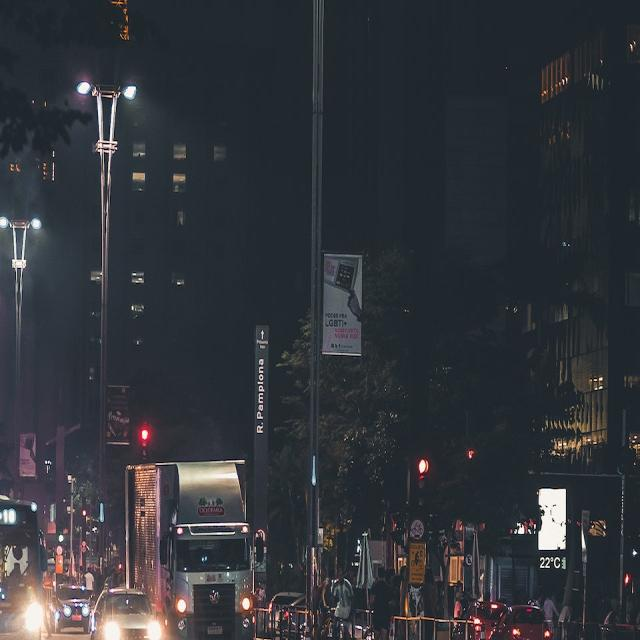bus: (0, 493, 42, 640)
car: (90, 587, 162, 640), (487, 604, 552, 640), (452, 600, 510, 640), (52, 583, 92, 633)
van: (122, 461, 256, 640)
